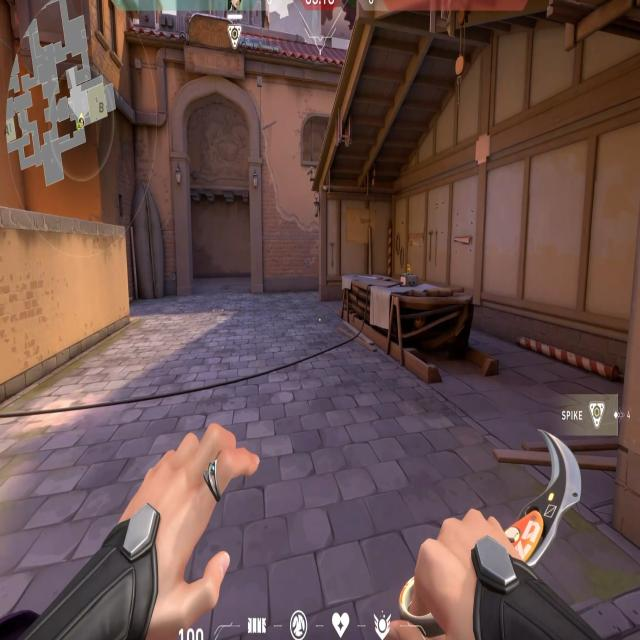B_Garage_Left: (312, 190, 398, 316)
Throwables: (298, 108, 339, 173)
